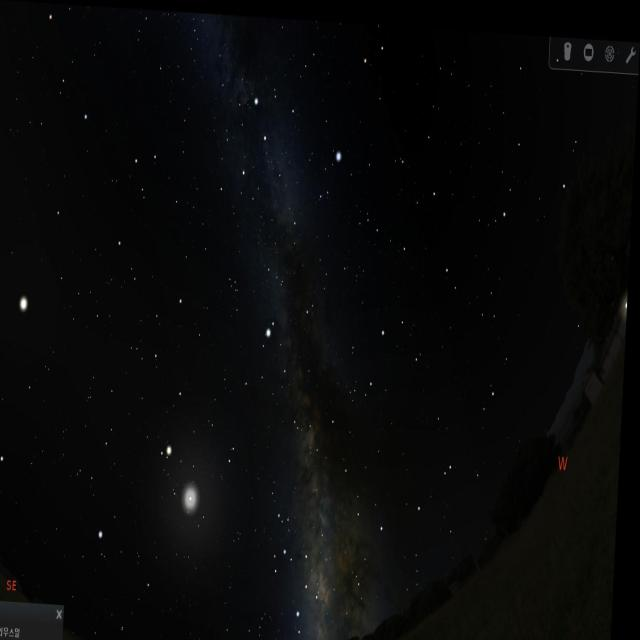aquila: (240, 312, 319, 438)
cygnus: (234, 84, 308, 258)
lyra: (316, 144, 349, 207)
moon: (180, 459, 210, 524)
sagittarius: (269, 524, 337, 640)
